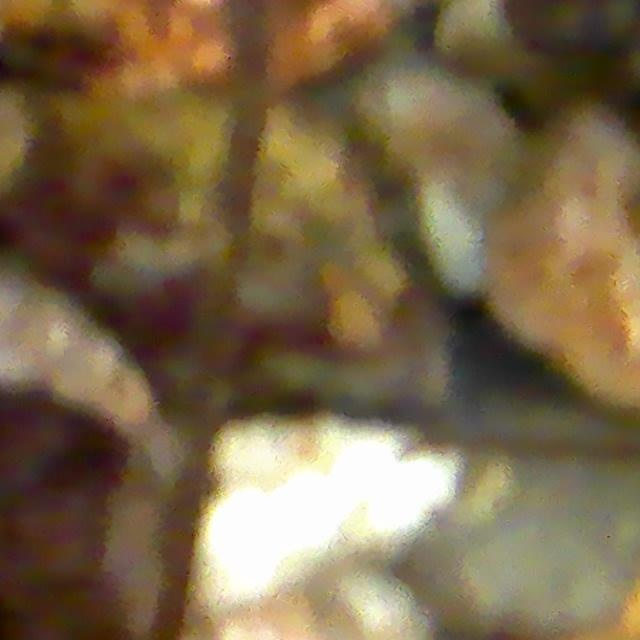SeaGrape: (133, 181, 184, 235), (593, 0, 640, 42)
